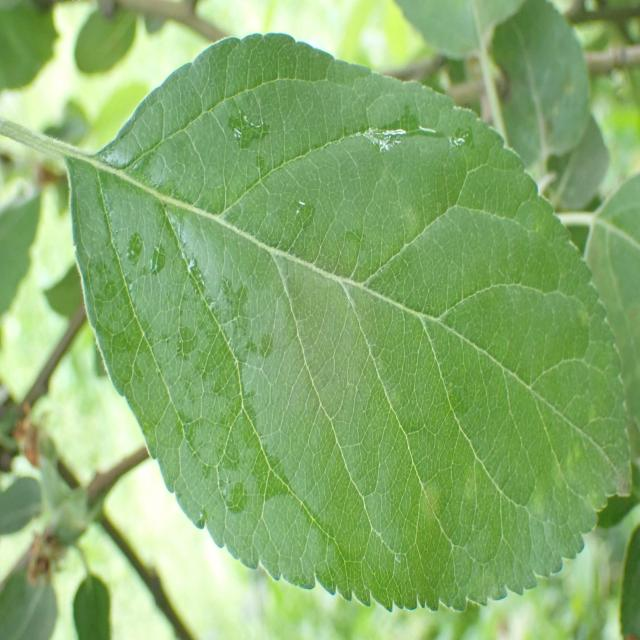scab: (113, 18, 634, 605)
